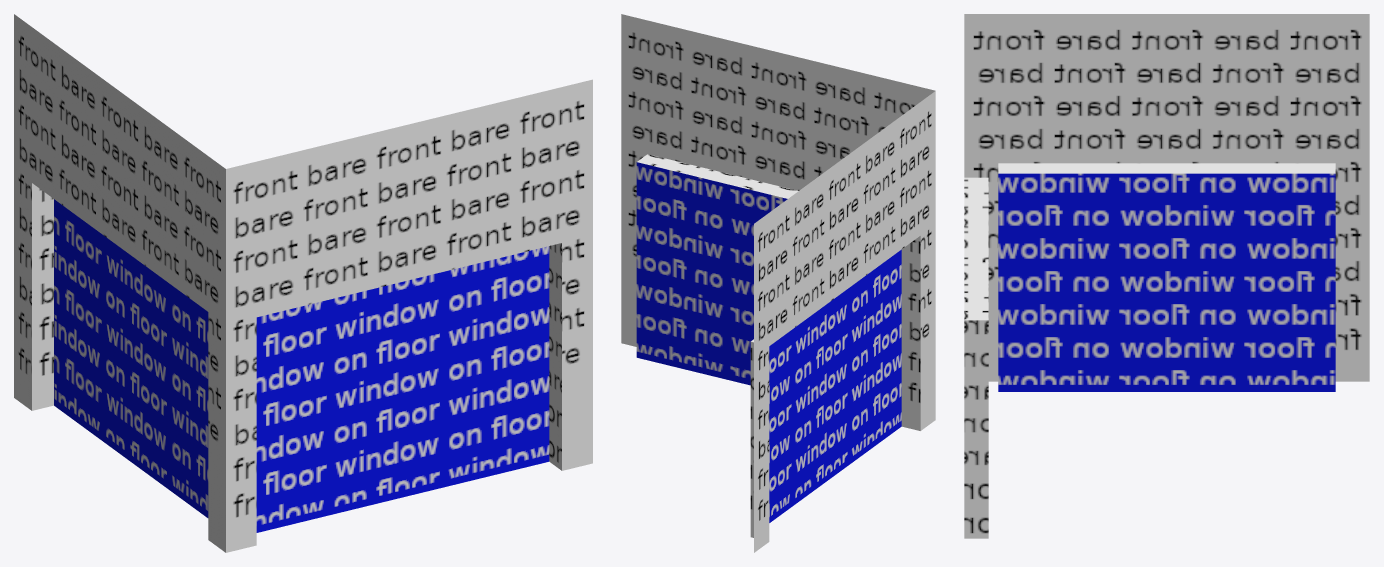
File: corner_window_on_floor.gltf
3 renders of one model, left to right at view 1: azimuth 30°, elevation 25°; view 2: azimuth 150°, elevation 25°; view 3: azimuth 270°, elevation 25°, orthographic. The views are drawn at different scales.
Visible parts, largest first — view 1: corner_window_on_floor; view 2: corner_window_on_floor; view 3: corner_window_on_floor.
Boxes of the visible parts, x1,y1,x2,y2 form: corner_window_on_floor: [14, 14, 592, 552]; corner_window_on_floor: [621, 14, 935, 552]; corner_window_on_floor: [964, 14, 1369, 538].
Bounding box in the file's own units: 5 × 5 × 5.
Materials: 2 (2 with a texture image).
